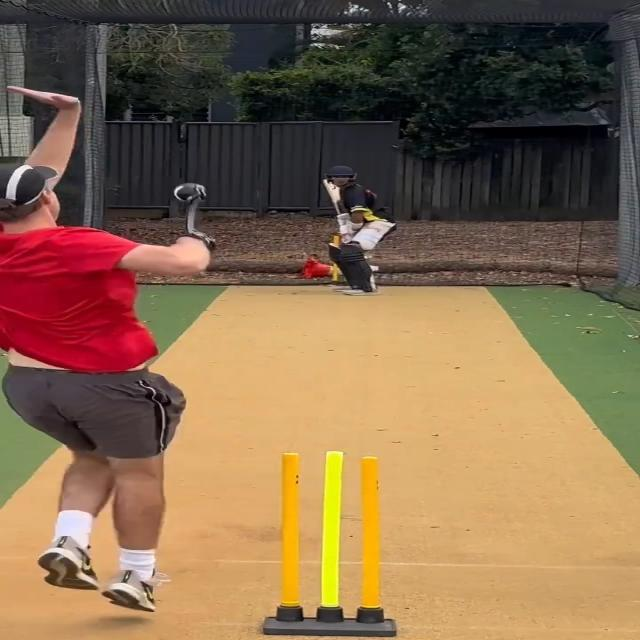stump: (259, 450, 396, 636)
